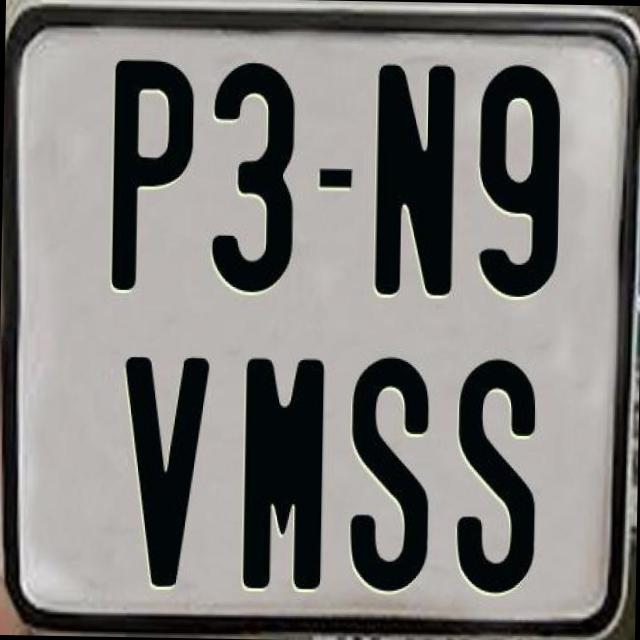3: (210, 61, 296, 297)
9: (472, 59, 560, 292)
M: (238, 356, 326, 589)
N: (370, 62, 456, 300)
P: (110, 58, 198, 298)
S: (348, 353, 438, 591), (451, 353, 541, 591)
V: (120, 352, 214, 584)
